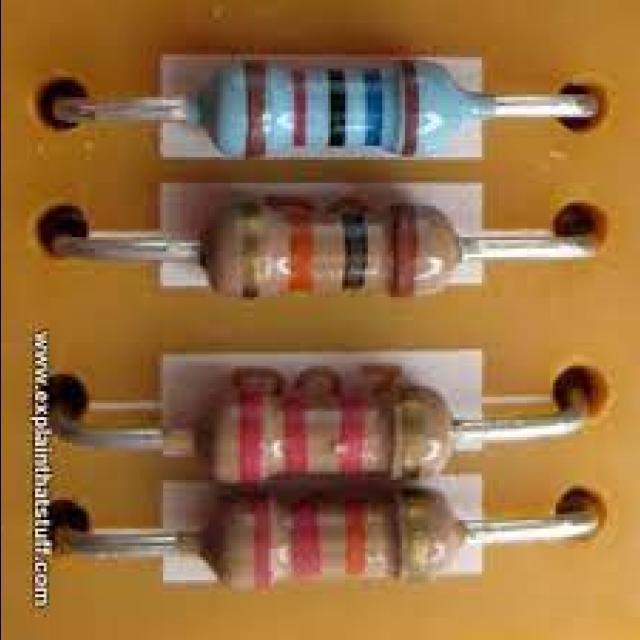Resistor: (197, 59, 477, 157), (202, 197, 461, 298), (205, 492, 463, 587), (210, 384, 452, 484)
black: (339, 203, 372, 299), (329, 61, 346, 156)
blue: (358, 63, 382, 149)
brown: (241, 56, 269, 164), (391, 200, 417, 300), (401, 55, 417, 163), (292, 60, 307, 152)
gold: (404, 484, 431, 592), (243, 197, 262, 304), (405, 385, 423, 489)
orange: (289, 200, 315, 302), (345, 492, 368, 586)
red: (339, 391, 370, 482), (241, 386, 263, 489), (291, 495, 316, 584), (285, 393, 307, 479), (256, 491, 271, 592)
